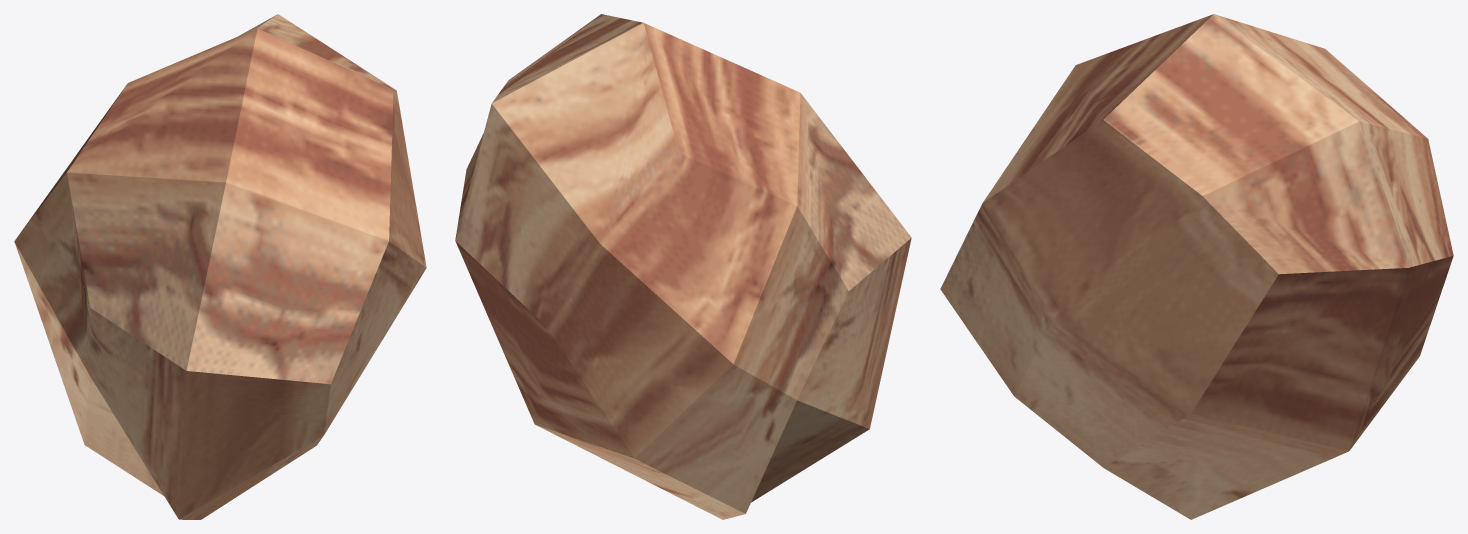
File: Desert_rock_03.fbx
3 renders of one model, left to right at view 1: azimuth 30°, elevation 25°; view 2: azimuth 150°, elevation 25°; view 3: azimuth 270°, elevation 25°, orthographic. The views are drawn at different scales.
Visible parts, largest first — view 1: Cube; view 2: Cube; view 3: Cube.
Part boxes in pixels (x1,y1,x2,y2): Cube: (14, 14, 426, 519); Cube: (455, 14, 911, 519); Cube: (940, 14, 1453, 519).
Bounding box in the file's own units: 169 × 234 × 200.
